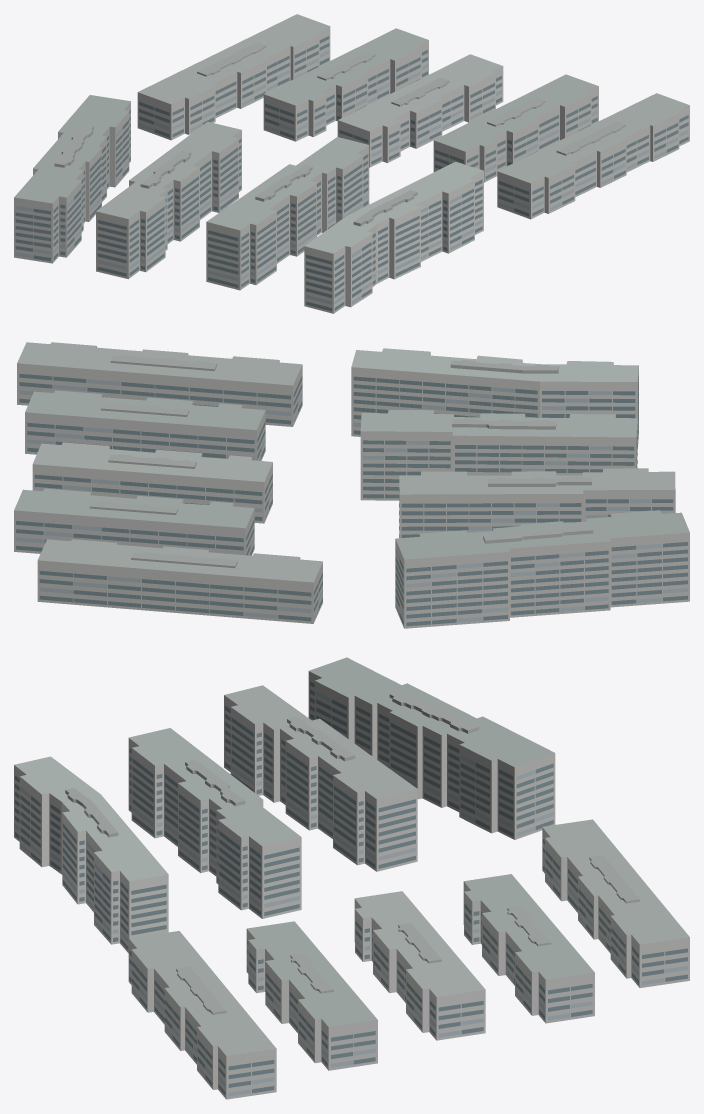
Rendered from apt-a10025192.glb.
The picture shows the model from 3 angles, top to bottom: view 1: azimuth 30°, elevation 25°; view 2: azimuth 150°, elevation 25°; view 3: azimuth 270°, elevation 25°; orthographic projection. The views are drawn at different scales.
Visible parts, largest first — view 1: apt-a10025192; view 2: apt-a10025192; view 3: apt-a10025192.
Part boxes in pixels (x1,y1,x2,y2): apt-a10025192: (14,14,689,313); apt-a10025192: (14,342,689,628); apt-a10025192: (14,657,689,1099).
Size of the model in its own units: 312 by 30 by 241.
